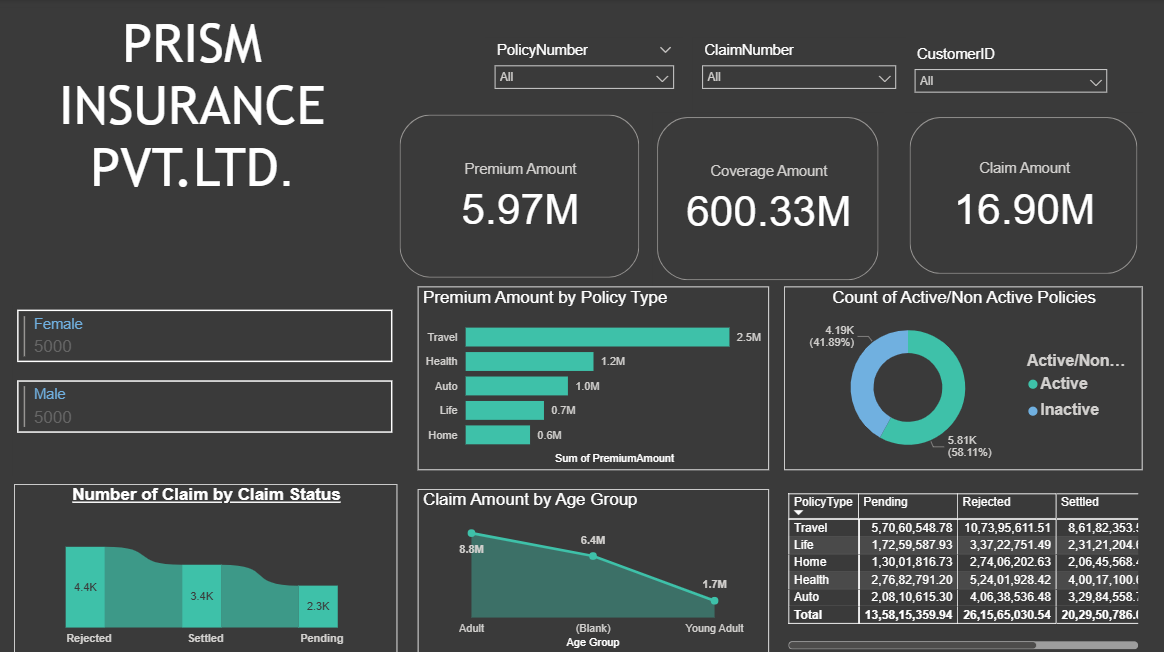

This screenshot's page, from the dashboard's own definition file:
{"tool":"powerbi","page":{"name":"Page 1","canvas":[1280,720],"ordinal":0},"visuals":[{"type":"slicer","fields":{"Values":["InsuranceData.PolicyNumber"]},"box":[533.8,42.5,216.8,83.7],"z":0},{"type":"slicer","fields":{"Values":["InsuranceData.ClaimNumber"]},"box":[761.6,42.5,233.3,83.7],"z":1000},{"type":"slicer","fields":{"Values":["InsuranceData.CustomerID"]},"box":[994.9,46.7,231.9,75.5],"z":2000},{"type":"textbox","box":[0,9.6,424,297.8],"z":3000},{"type":"cardVisual","fields":{"Data":["Sum(InsuranceData.PremiumAmount)"]},"box":[435,122.1,273.1,189.4],"z":4000},{"type":"cardVisual","fields":{"Data":["Sum(InsuranceData.CoverageAmount)"]},"box":[717.7,124.9,253.9,189.4],"z":5000},{"type":"cardVisual","fields":{"Data":["Sum(InsuranceData.ClaimAmount)"]},"box":[994.9,124.9,260.7,182.5],"z":6000},{"type":"multiRowCard","fields":{"Values":["InsuranceData.Gender","CountNonNull(InsuranceData.Gender)"]},"box":[15.6,335.6,421.5,187.3],"z":7000},{"type":"ribbonChart","title":"Number of  Claim by Claim Status","fields":{"Category":["InsuranceData.ClaimStatus"],"Y":["CountNonNull(InsuranceData.ClaimStatus)"]},"box":[16,533,421,187],"z":8000},{"type":"barChart","title":"Premium Amount by Policy Type","fields":{"Category":["InsuranceData.PolicyType"],"Y":["Sum(InsuranceData.PremiumAmount)"]},"box":[459.7,315.6,385.6,201.7],"z":9000},{"type":"lineChart","title":"Claim Amount by Age Group","fields":{"Category":["InsuranceData.Age Group"],"Y":["Sum(InsuranceData.ClaimAmount)"]},"box":[459.7,537.9,385.6,181.1],"z":10000},{"type":"donutChart","title":"Count of Active/Non Active  Policies","fields":{"Category":["InsuranceData.Active/Non Active"],"Y":["CountNonNull(InsuranceData.Active/Non Active)"]},"box":[861.8,315.6,393.8,201.7],"z":11000},{"type":"pivotTable","fields":{"Values":["Sum(InsuranceData.CoverageAmount)"],"Rows":["InsuranceData.PolicyType"],"Columns":["InsuranceData.ClaimStatus"]},"box":[862,538,394,181],"z":12000}]}

Visuals, with their boxes in screenshot pixels (x1, y1, x2, y2), scaled from the page's 1280x720 canvas onto the 1164x652 screenshot:
slicer - InsuranceData.PolicyNumber: Rect(485, 38, 683, 114)
slicer - InsuranceData.ClaimNumber: Rect(693, 38, 905, 114)
slicer - InsuranceData.CustomerID: Rect(905, 42, 1116, 111)
textbox: Rect(0, 9, 386, 278)
cardVisual - Sum(InsuranceData.PremiumAmount): Rect(396, 111, 644, 282)
cardVisual - Sum(InsuranceData.CoverageAmount): Rect(653, 113, 884, 285)
cardVisual - Sum(InsuranceData.ClaimAmount): Rect(905, 113, 1142, 278)
multiRowCard - InsuranceData.Gender x CountNonNull(InsuranceData.Gender): Rect(14, 304, 397, 474)
"Number of  Claim by Claim Status" ribbonChart: Rect(15, 483, 397, 651)
"Premium Amount by Policy Type" barChart: Rect(418, 286, 769, 468)
"Claim Amount by Age Group" lineChart: Rect(418, 487, 769, 651)
"Count of Active/Non Active  Policies" donutChart: Rect(784, 286, 1142, 468)
pivotTable - Sum(InsuranceData.CoverageAmount) x InsuranceData.PolicyType: Rect(784, 487, 1142, 651)
